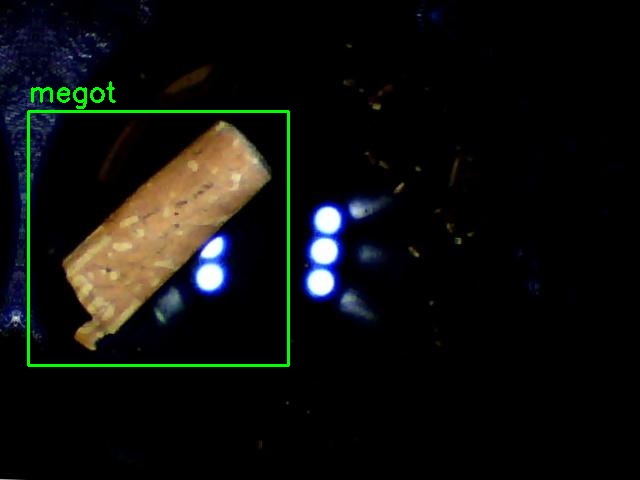megot: (28, 111, 288, 365)
